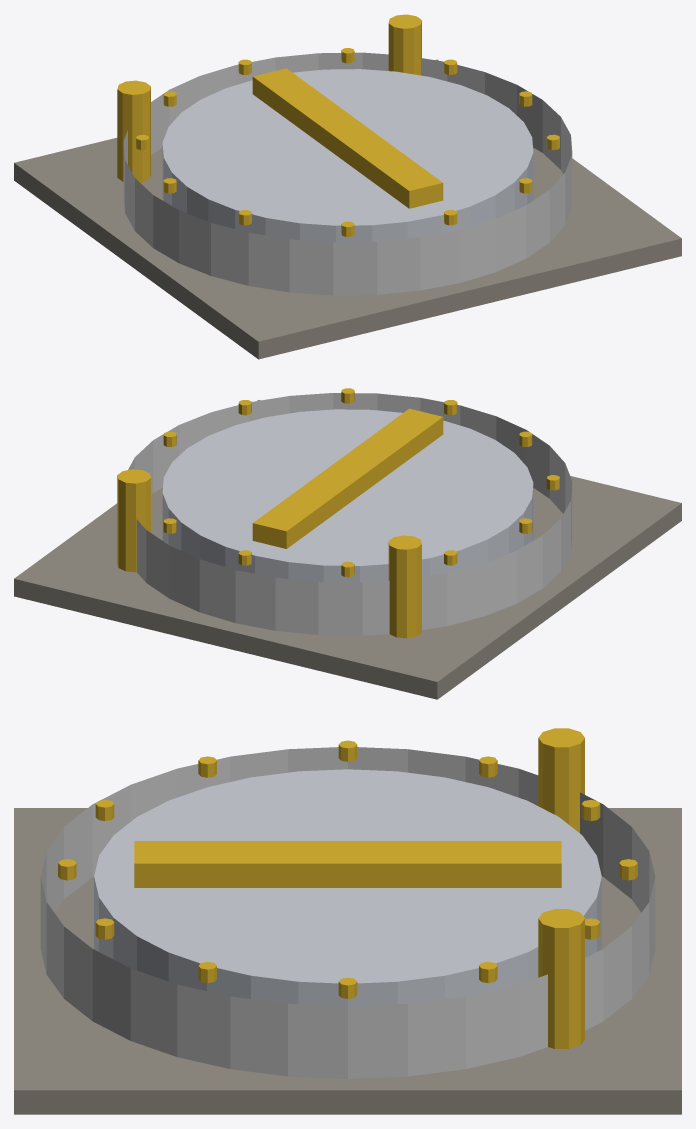
File: silo_hatch_top.obj
3 views of the same model, one above another, from view 1: azimuth 30°, elevation 25°; view 2: azimuth 150°, elevation 25°; view 3: azimuth 270°, elevation 25° (orthographic). The views are drawn at different scales.
Parts seen in each view (by area): view 1: silo_hatch_top; view 2: silo_hatch_top; view 3: silo_hatch_top.
Boxes of the visible parts, box(x1,y1,x2,y2) form: silo_hatch_top: box(14, 14, 681, 359); silo_hatch_top: box(14, 388, 681, 699); silo_hatch_top: box(14, 728, 681, 1114).
Bounding box in the file's own units: 1 × 0.24 × 1.
